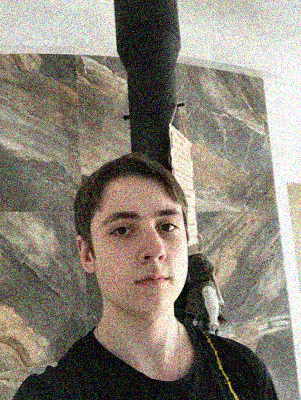without_mask: (91, 208, 189, 317)
